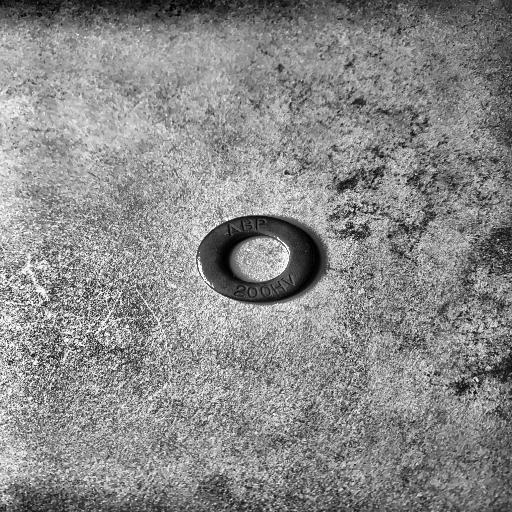Washer: (196, 213, 323, 304)
